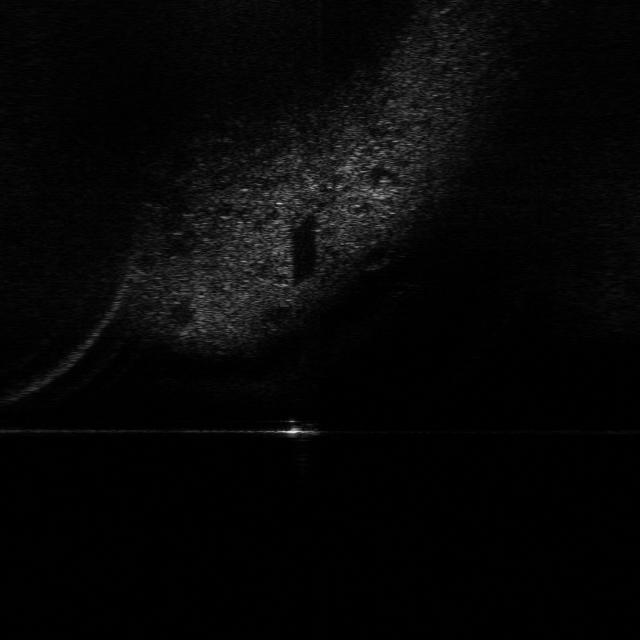cube: (276, 414, 324, 445)
